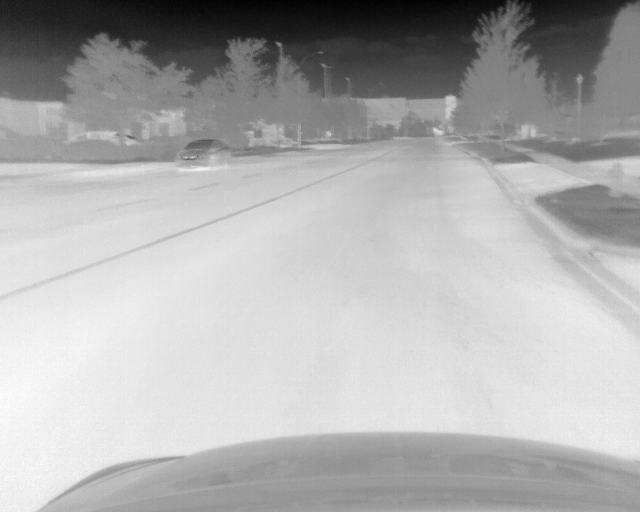car: (175, 138, 230, 168)
